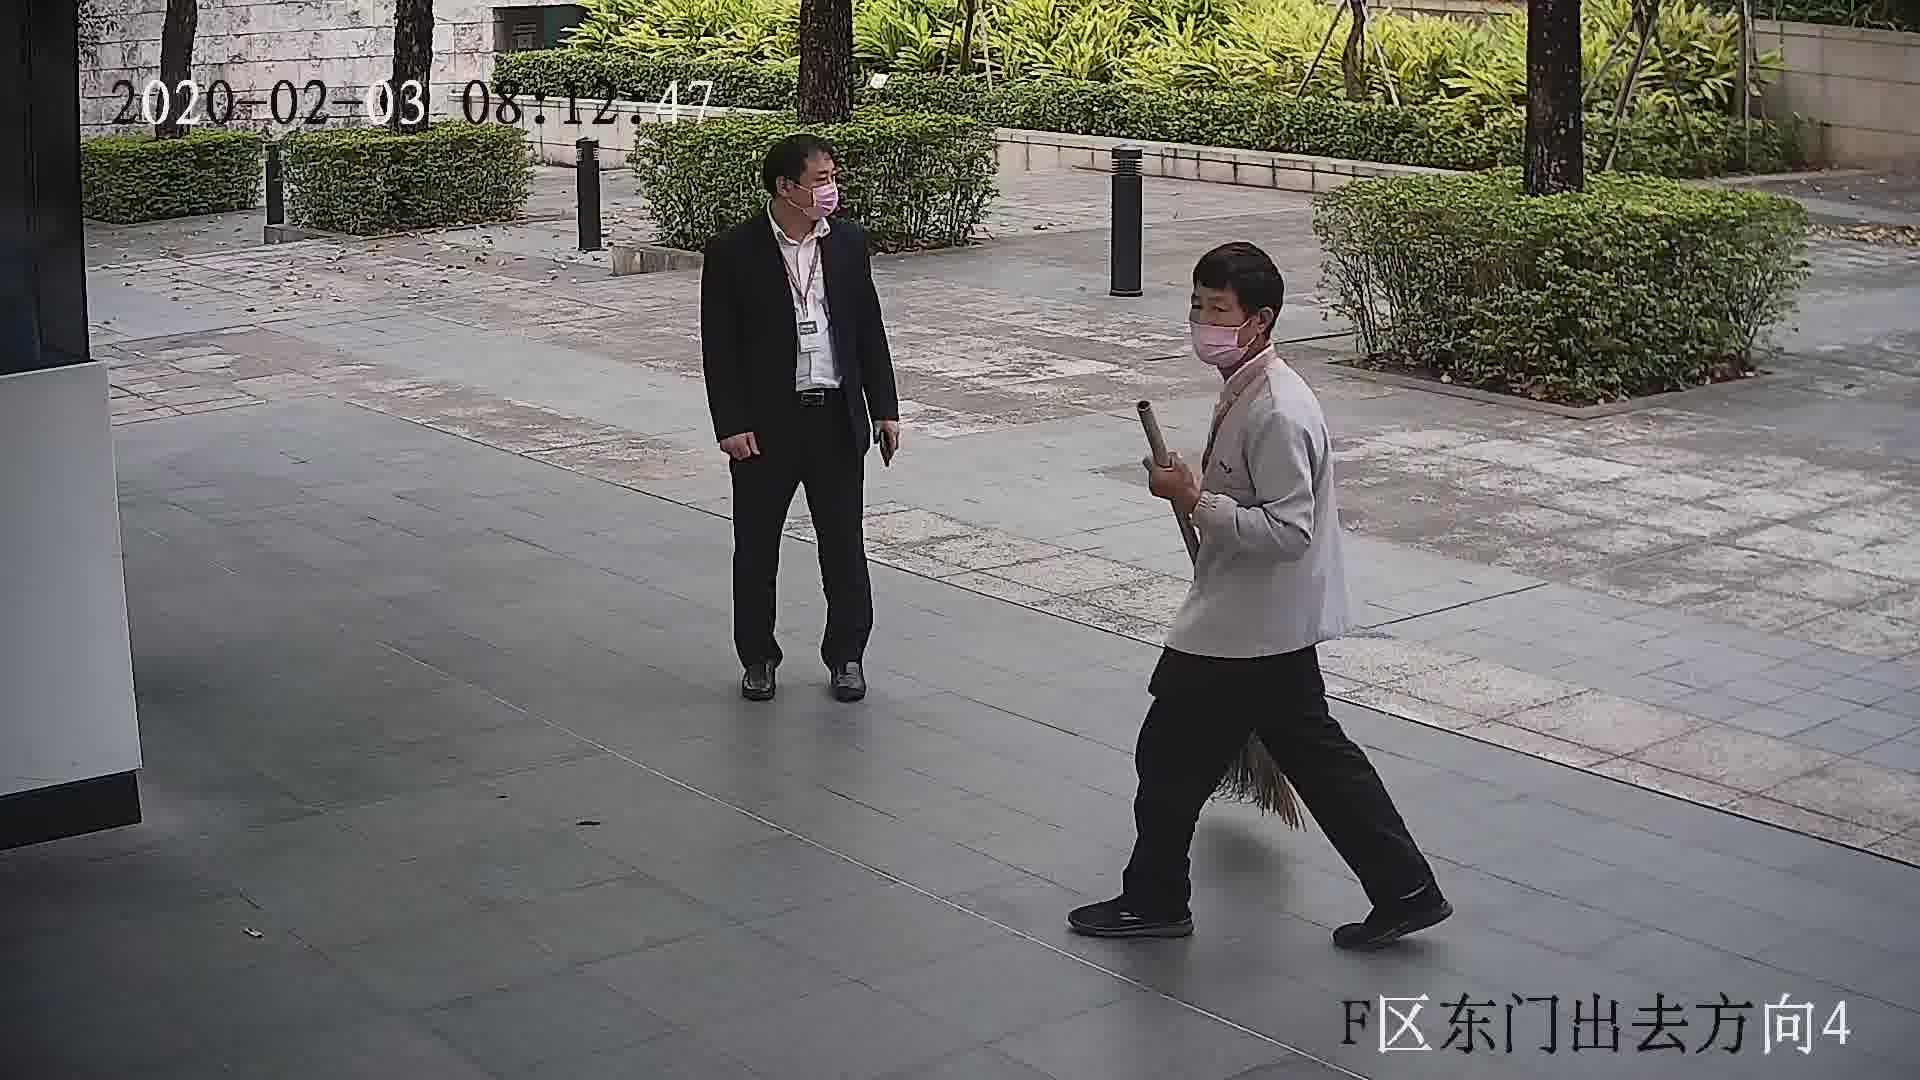face: (1185, 276, 1257, 366), (783, 155, 841, 223)
mask: (1190, 317, 1249, 366), (801, 183, 843, 222)
person: (1169, 237, 1327, 446), (710, 132, 862, 263)
